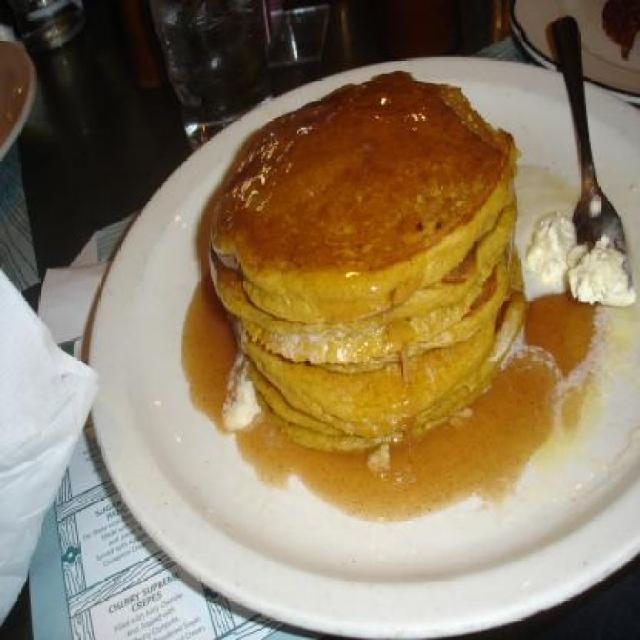Pancake: (209, 82, 514, 321)
